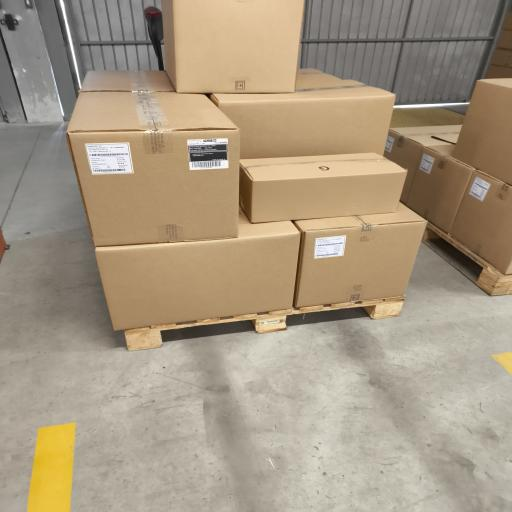pallet: (125, 297, 404, 350), (423, 223, 511, 295), (0, 229, 7, 260)
